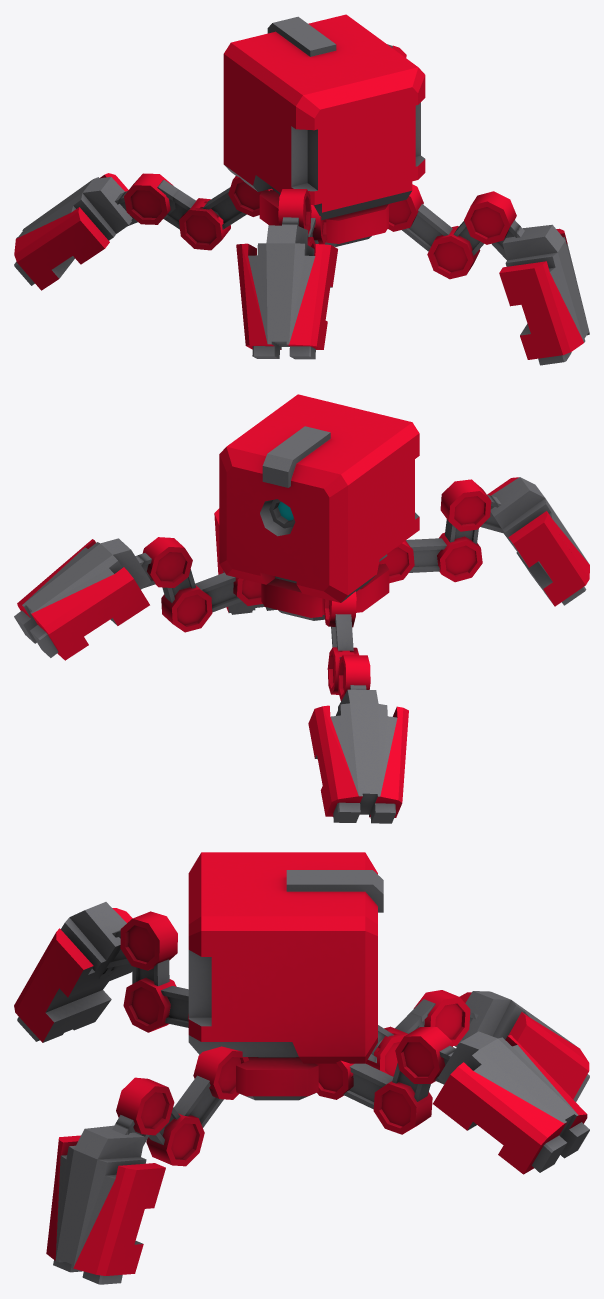
File: Monster1_Move13.obj
3 renders of one model, top to bottom at view 1: azimuth 30°, elevation 25°; view 2: azimuth 150°, elevation 25°; view 3: azimuth 270°, elevation 25°, orthographic. The views are drawn at different scales.
Parts seen in each view (by area): view 1: Box006, Object021, Object017, Object025, Object027, Object020, Object018, Object019, Object028, Object026, Object024, Object022; view 2: Box006, Object025, Object013, Object021, Object024, Object016, Object015, Object023, Object022, Object014, Object026, Object028 (+2 smaller); view 3: Box006, Object017, Object013, Object021, Object025, Object018, Object024, Object020, Object015, Object023, Object016, Object014 (+4 smaller).
Part boxes in pixels (x1,y1,x2,y2): Box006: (223, 14, 425, 246); Object021: (236, 225, 337, 359); Object017: (499, 224, 589, 365); Object025: (14, 173, 132, 290); Object027: (157, 180, 230, 250); Object020: (464, 191, 524, 260); Object018: (388, 184, 452, 251); Object019: (427, 221, 483, 279); Object028: (115, 173, 173, 225); Object026: (202, 176, 272, 229); Object024: (278, 189, 311, 235); Object022: (308, 205, 327, 244); Box006: (219, 394, 419, 620); Object025: (308, 689, 408, 823); Object013: (14, 538, 151, 660); Object021: (487, 477, 589, 606); Object024: (440, 479, 504, 533); Object016: (135, 537, 192, 588); Object015: (161, 569, 212, 632); Object023: (437, 519, 482, 582); Object022: (379, 538, 446, 583); Object014: (195, 572, 262, 612); Object026: (324, 591, 356, 650); Object028: (338, 655, 370, 700); Box006: (188, 852, 383, 1100); Object017: (46, 1125, 165, 1284); Object013: (433, 1031, 589, 1174); Object021: (14, 902, 132, 1042); Object025: (455, 991, 589, 1101); Object018: (174, 1046, 248, 1127); Object024: (106, 911, 177, 970); Object020: (112, 1077, 174, 1146); Object015: (373, 1063, 432, 1134); Object023: (123, 959, 176, 1032); Object016: (395, 1027, 455, 1084); Object014: (315, 1060, 393, 1109).
Size of the model in its own units: 158 by 109 by 179.
